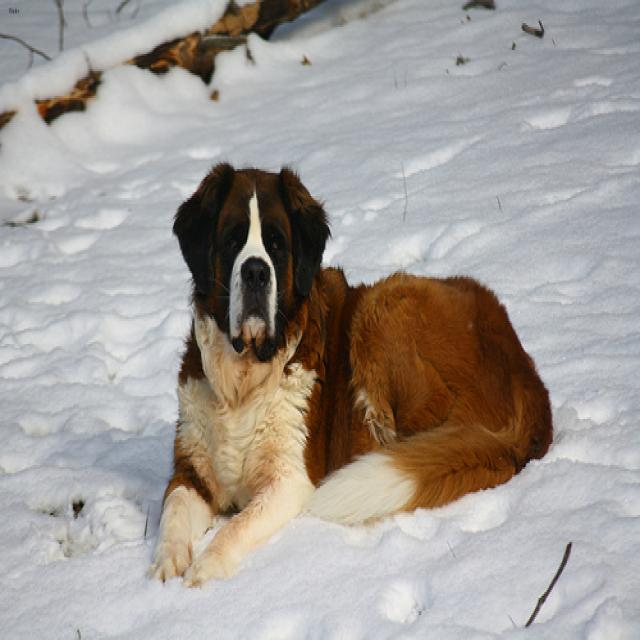dog-saint_bernard: (140, 146, 562, 605)
